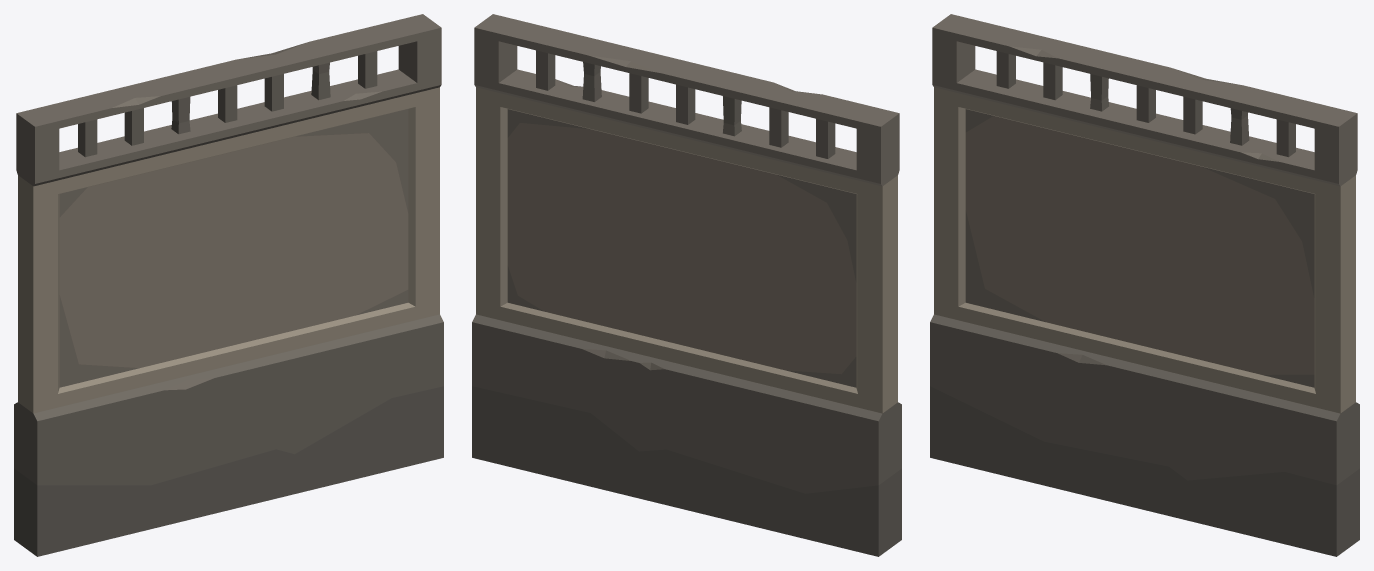
The model's file is SM_Prop_Fence_Concrete_01.glb.
3 renders of one model, left to right at view 1: azimuth 30°, elevation 25°; view 2: azimuth 150°, elevation 25°; view 3: azimuth 330°, elevation 25°, orthographic.
Parts seen in each view (by area): view 1: SM_Prop_Fence_Concrete_01; view 2: SM_Prop_Fence_Concrete_01; view 3: SM_Prop_Fence_Concrete_01.
Part boxes in pixels (box(x1,y1,x2,y2)): SM_Prop_Fence_Concrete_01: box(14, 14, 443, 556); SM_Prop_Fence_Concrete_01: box(472, 14, 901, 556); SM_Prop_Fence_Concrete_01: box(930, 14, 1359, 556).
Size of the model in its own units: 2.5 by 2.52 by 0.2476.
Materials: 1 (1 with a texture image).
